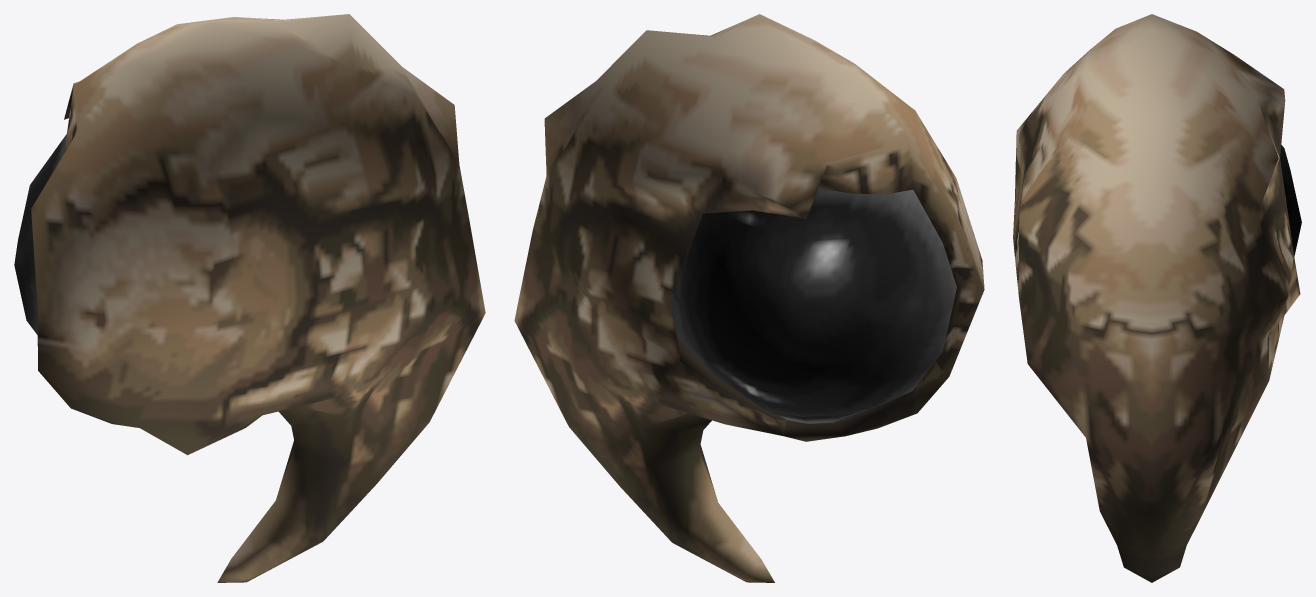
Rendered from TALIS.ICO.obj.
3 renders of one model, left to right at view 1: azimuth 30°, elevation 25°; view 2: azimuth 150°, elevation 25°; view 3: azimuth 270°, elevation 25°, orthographic. The views are drawn at different scales.
Size of the model in its own units: 3.35 by 3.98 by 1.98.
1 material, 1 textured.
